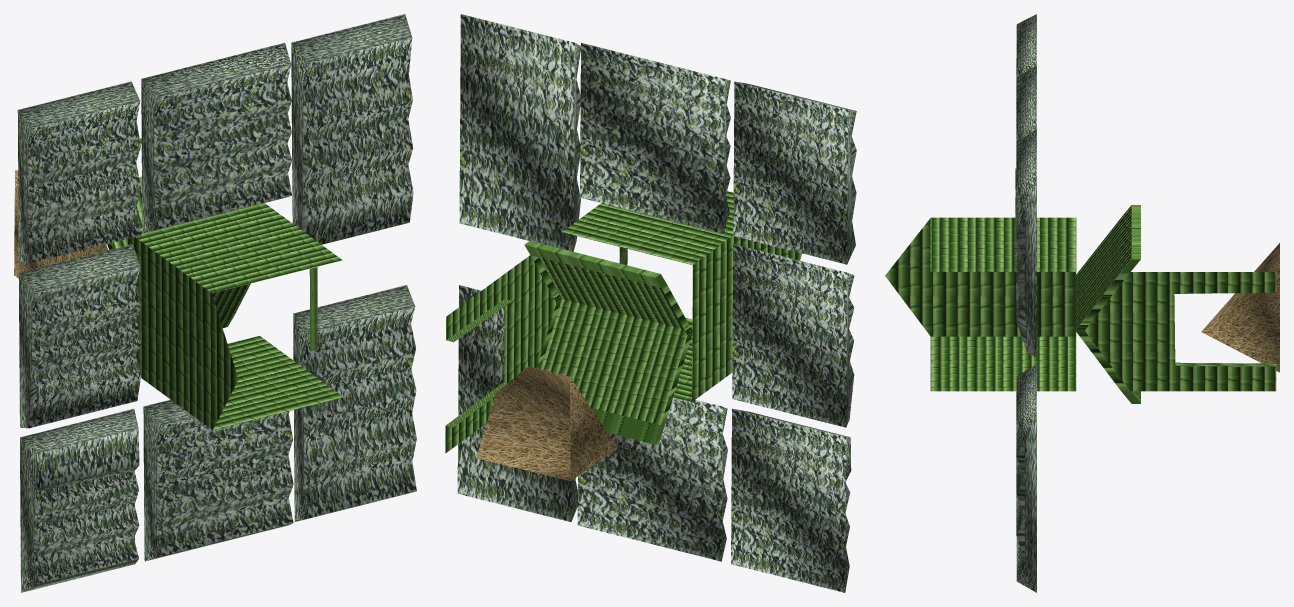
Rendered from farm_000055.obj.
3 renders of one model, left to right at view 1: azimuth 30°, elevation 25°; view 2: azimuth 150°, elevation 25°; view 3: azimuth 270°, elevation 25°, orthographic. The views are drawn at different scales.
Parts seen in each view (by area): view 1: crops.000_Cube.040, wall.000_Cube.043, roof.000_Cube.042, hay.000_Cone.010; view 2: crops.000_Cube.040, roof.000_Cube.042, wall.000_Cube.043, hay.000_Cone.010, front.000_Cube.041; view 3: wall.000_Cube.043, front.000_Cube.041, crops.000_Cube.040, roof.000_Cube.042, hay.000_Cone.010.
Boxes of the visible parts, box(x1,y1,x2,y2) form: crops.000_Cube.040: box(17, 14, 416, 592); wall.000_Cube.043: box(127, 203, 343, 430); roof.000_Cube.042: box(107, 176, 250, 327); hay.000_Cone.010: box(14, 170, 107, 278); crops.000_Cube.040: box(457, 14, 856, 592); roof.000_Cube.042: box(524, 241, 692, 444); wall.000_Cube.043: box(562, 191, 802, 402); hay.000_Cone.010: box(476, 366, 617, 480); front.000_Cube.041: box(445, 255, 556, 453); wall.000_Cube.043: box(885, 217, 1076, 391); front.000_Cube.041: box(1085, 272, 1276, 391); crops.000_Cube.040: box(1015, 14, 1036, 592); roof.000_Cube.042: box(1075, 205, 1140, 403); hay.000_Cone.010: box(1201, 243, 1279, 372).
Size of the model in its own units: 8.41 by 10 by 8.52.
